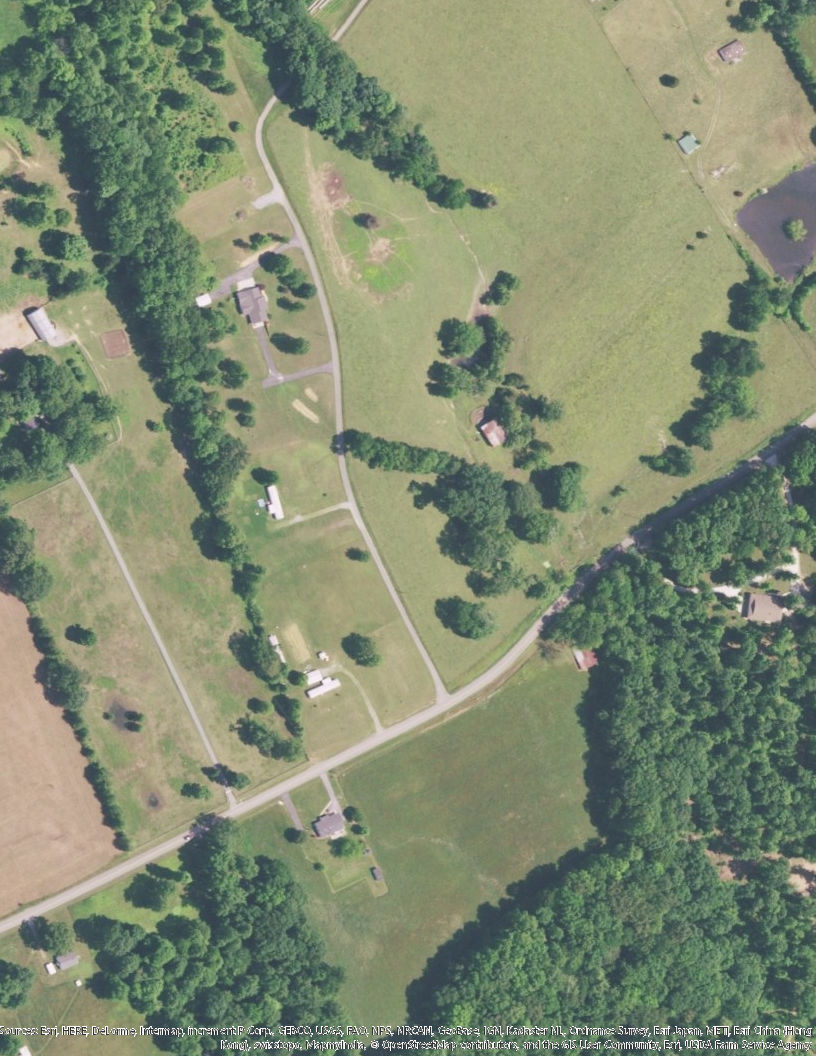cafo: (302, 665, 344, 698), (262, 483, 287, 522)
